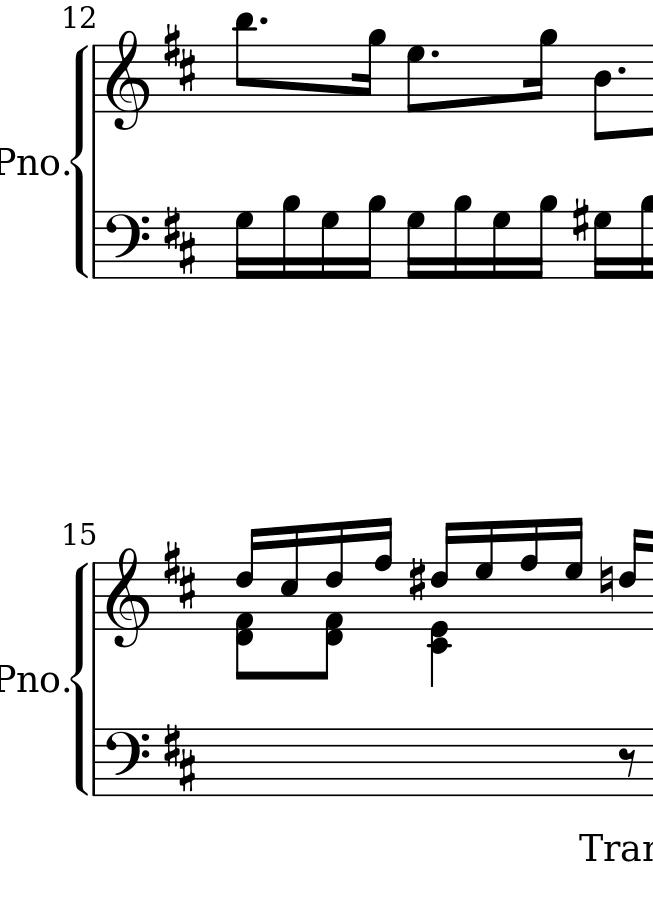1: (62, 521, 76, 548), (63, 3, 76, 31)
16_3: (279, 523, 300, 632)
16_6: (427, 520, 460, 630), (235, 529, 268, 630), (617, 525, 647, 635)
16_7: (564, 514, 584, 630), (475, 519, 495, 632), (318, 205, 340, 284), (490, 206, 511, 283), (404, 208, 425, 284), (233, 207, 253, 284), (592, 207, 612, 283)
16_9: (525, 26, 556, 116), (354, 26, 385, 114), (530, 192, 558, 285), (358, 193, 386, 284), (280, 190, 301, 284), (451, 192, 472, 284)
2: (78, 4, 96, 31)
5: (79, 521, 96, 548)
8_11: (234, 10, 257, 115)
8_4: (592, 45, 612, 143)
8_7: (405, 44, 426, 114)
8_8: (372, 515, 394, 632), (519, 518, 541, 631)
Brace: (70, 42, 92, 281), (70, 561, 89, 796)
D_S: (162, 203, 198, 275), (161, 721, 198, 790), (161, 25, 196, 95), (162, 540, 196, 609)
Fclef: (102, 208, 149, 280), (104, 727, 149, 797)
Gclef: (105, 543, 149, 650), (106, 27, 148, 132)
Natural: (598, 554, 615, 605)
Pno: (1, 143, 62, 177), (1, 665, 62, 692)
Rests8: (616, 746, 639, 778)
Sharp: (407, 557, 427, 604), (571, 196, 590, 245)
Single_barline: (88, 212, 103, 277), (88, 564, 103, 629), (88, 46, 102, 112), (88, 730, 102, 795)
dot: (614, 62, 629, 77), (428, 46, 442, 61), (256, 14, 269, 27)
